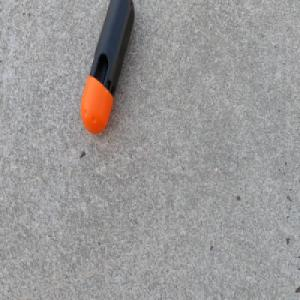PlasticPart: (79, 0, 135, 136)
